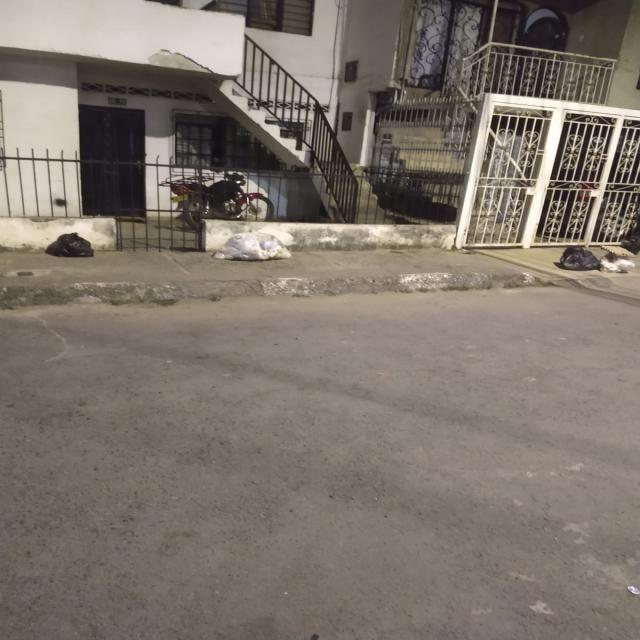Trashbag: (34, 218, 108, 268), (555, 235, 593, 278)
